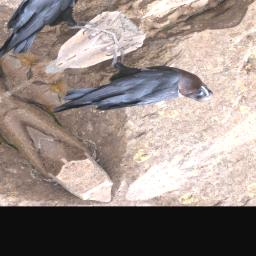Crow: (22, 21, 218, 160)
